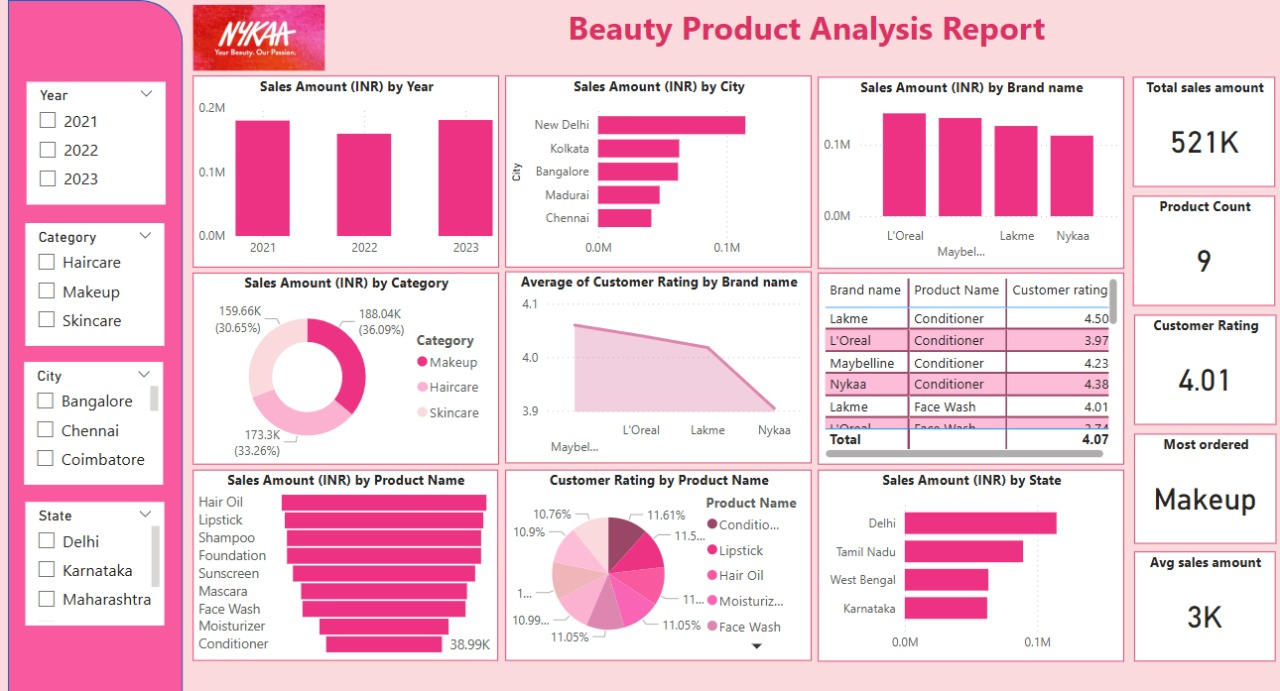

The page's visual inventory and layout, read from the dashboard file:
{"tool":"powerbi","page":{"name":"Page 1","canvas":[1280,720],"ordinal":0},"visuals":[{"type":"textbox","box":[337,0,935.8,69.1],"z":0},{"type":"card","title":"Total sales amount","fields":{"Values":["Sum(Sheet1.Sales Amount (INR))"]},"box":[1129.6,76.5,142,109.9],"z":1000},{"type":"card","title":"Product Count","fields":{"Values":["Count(Sheet1.Product Name)"]},"box":[1129.6,195.1,142,109.9],"z":2000},{"type":"card","title":"Customer Rating","fields":{"Values":["Avg(Sheet1.Customer Rating)"]},"box":[1130.9,313.6,142,109.9],"z":3000},{"type":"shape","box":[9.9,0,174.1,708.6],"z":4000},{"type":"slicer","fields":{"Values":["Sheet1.Year"]},"box":[28.4,81.5,138.3,122.2],"z":5000},{"type":"slicer","fields":{"Values":["Sheet1.Category"]},"box":[27.2,222.2,138.3,122.2],"z":6000},{"type":"slicer","fields":{"Values":["Sheet1.City"]},"box":[25.9,360.5,138.3,122.2],"z":7000},{"type":"slicer","fields":{"Values":["Sheet1.State"]},"box":[27.2,500,138.3,123.5],"z":8000},{"type":"card","title":"Most ordered","fields":{"Values":["Min(Sheet1.Category)"]},"box":[1130.9,432.1,142,109.9],"z":9000},{"type":"clusteredColumnChart","title":"Sales Amount (INR) by Year","fields":{"Category":["Sheet1.Year"],"Y":["Sum(Sheet1.Sales Amount (INR))"]},"box":[193.8,75,305,191.2],"z":10000},{"type":"barChart","title":"Sales Amount (INR) by City","fields":{"Category":["Sheet1.City"],"Y":["Sum(Sheet1.Sales Amount (INR))"]},"box":[505,75.3,304.9,191.4],"z":11000},{"type":"clusteredColumnChart","title":"Sales Amount (INR) by Brand name","fields":{"Category":["Sheet1.Brand name"],"Y":["Sum(Sheet1.Sales Amount (INR))"]},"box":[816,76.5,304.9,191.4],"z":12000},{"type":"donutChart","title":"Sales Amount (INR) by Category","fields":{"Category":["Sheet1.Category"],"Y":["Sum(Sheet1.Sales Amount (INR))"]},"box":[193.8,272,304.9,191.4],"z":13000},{"type":"areaChart","fields":{"Category":["Sheet1.Brand name"],"Y":["Avg(Sheet1.Customer Rating)"]},"box":[504.9,270.4,304.9,191.4],"z":14000},{"type":"tableEx","fields":{"Values":["Sheet1.Brand name","Sheet1.Product Name","Avg(Sheet1.Customer Rating)"]},"box":[816,271.6,304.9,191.4],"z":15000},{"type":"funnel","title":"Sales Amount (INR) by Product Name","fields":{"Y":["Sum(Sheet1.Sales Amount (INR))"],"Category":["Sheet1.Product Name"]},"box":[193.8,468,303.7,190.1],"z":16000},{"type":"pieChart","title":"Customer Rating by Product Name","fields":{"Category":["Sheet1.Product Name"],"Y":["Avg(Sheet1.Customer Rating)"]},"box":[504.9,467.9,304.9,190.1],"z":17000},{"type":"barChart","title":"Sales Amount (INR) by State","fields":{"Y":["Sum(Sheet1.Sales Amount (INR))"],"Category":["Sheet1.State"]},"box":[816,467.9,304.9,191.4],"z":18000},{"type":"image","box":[133.3,0,253.1,75.3],"z":19000},{"type":"card","title":"Avg sales amount","fields":{"Values":["Avg(Sheet1.Sales Amount (INR))"]},"box":[1130.9,549.4,140.7,109.9],"z":20000}]}

Visuals, with their boxes on the page's 1280x720 design canvas (x1, y1, x2, y2). These are canvas units, not pixel positions in the 1280x691 screenshot, which may show the page scaled, cropped or inside an application window:
textbox: detection(337, 0, 1273, 69)
"Total sales amount" card: detection(1130, 76, 1272, 186)
"Product Count" card: detection(1130, 195, 1272, 305)
"Customer Rating" card: detection(1131, 314, 1273, 424)
shape: detection(10, 0, 184, 709)
slicer - Sheet1.Year: detection(28, 82, 167, 204)
slicer - Sheet1.Category: detection(27, 222, 166, 344)
slicer - Sheet1.City: detection(26, 360, 164, 483)
slicer - Sheet1.State: detection(27, 500, 166, 624)
"Most ordered" card: detection(1131, 432, 1273, 542)
"Sales Amount (INR) by Year" clusteredColumnChart: detection(194, 75, 499, 266)
"Sales Amount (INR) by City" barChart: detection(505, 75, 810, 267)
"Sales Amount (INR) by Brand name" clusteredColumnChart: detection(816, 76, 1121, 268)
"Sales Amount (INR) by Category" donutChart: detection(194, 272, 499, 463)
areaChart - Sheet1.Brand name x Avg(Sheet1.Customer Rating): detection(505, 270, 810, 462)
tableEx - Sheet1.Brand name x Sheet1.Product Name: detection(816, 272, 1121, 463)
"Sales Amount (INR) by Product Name" funnel: detection(194, 468, 498, 658)
"Customer Rating by Product Name" pieChart: detection(505, 468, 810, 658)
"Sales Amount (INR) by State" barChart: detection(816, 468, 1121, 659)
image: detection(133, 0, 386, 75)
"Avg sales amount" card: detection(1131, 549, 1272, 659)
